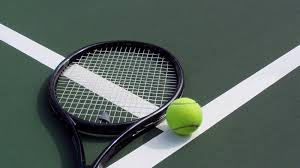tennis_ball: (166, 97, 202, 136)
